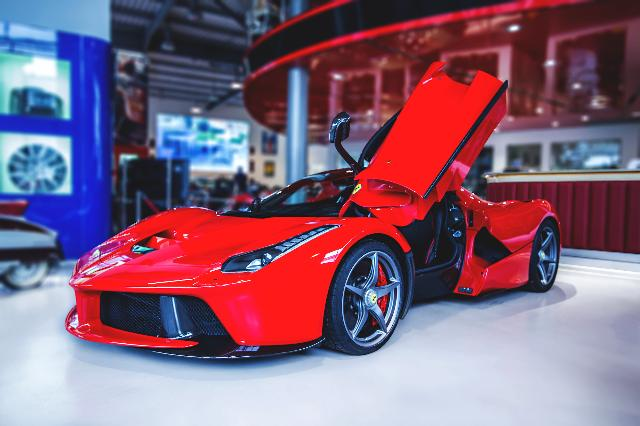ferrari: (65, 61, 563, 361)
